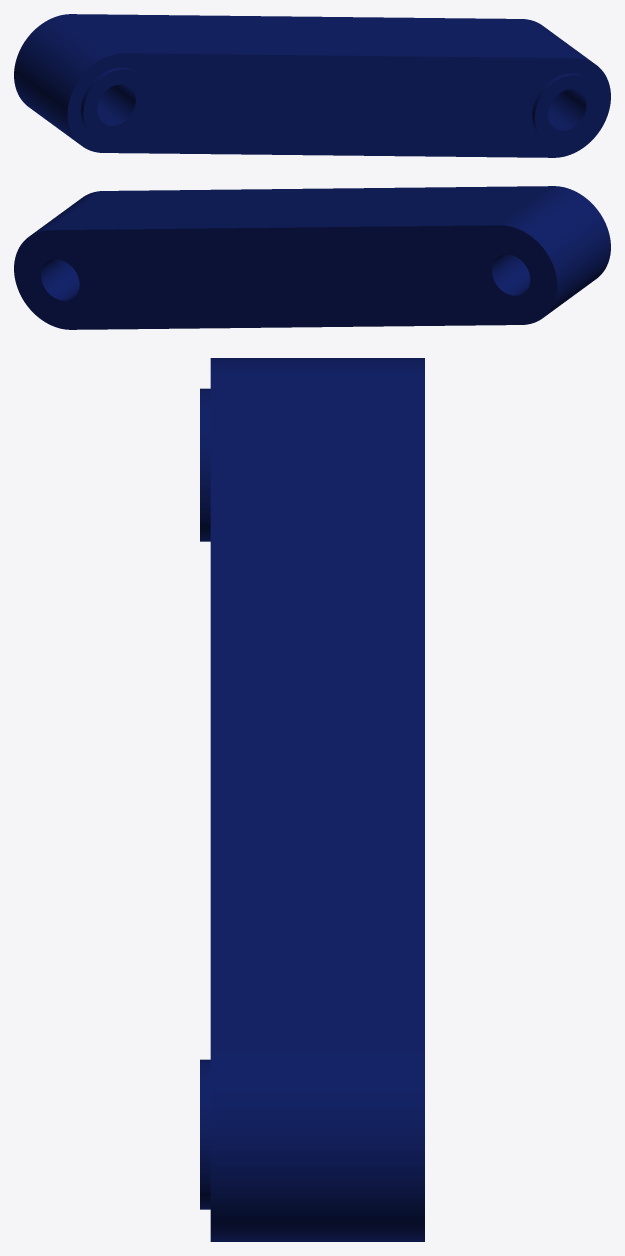
File: bottom_stick_right.obj
3 renders of one model, top to bottom at view 1: azimuth 30°, elevation 25°; view 2: azimuth 150°, elevation 25°; view 3: azimuth 270°, elevation 25°, orthographic. The views are drawn at different scales.
Visible parts, largest first — view 1: geometry_1; view 2: geometry_1; view 3: geometry_1.
Part boxes in pixels (x1,y1,x2,y2): geometry_1: [14, 14, 610, 157]; geometry_1: [14, 186, 610, 329]; geometry_1: [200, 358, 424, 1241].
Size of the model in its own units: 58.58 by 21.83 by 10.5.
